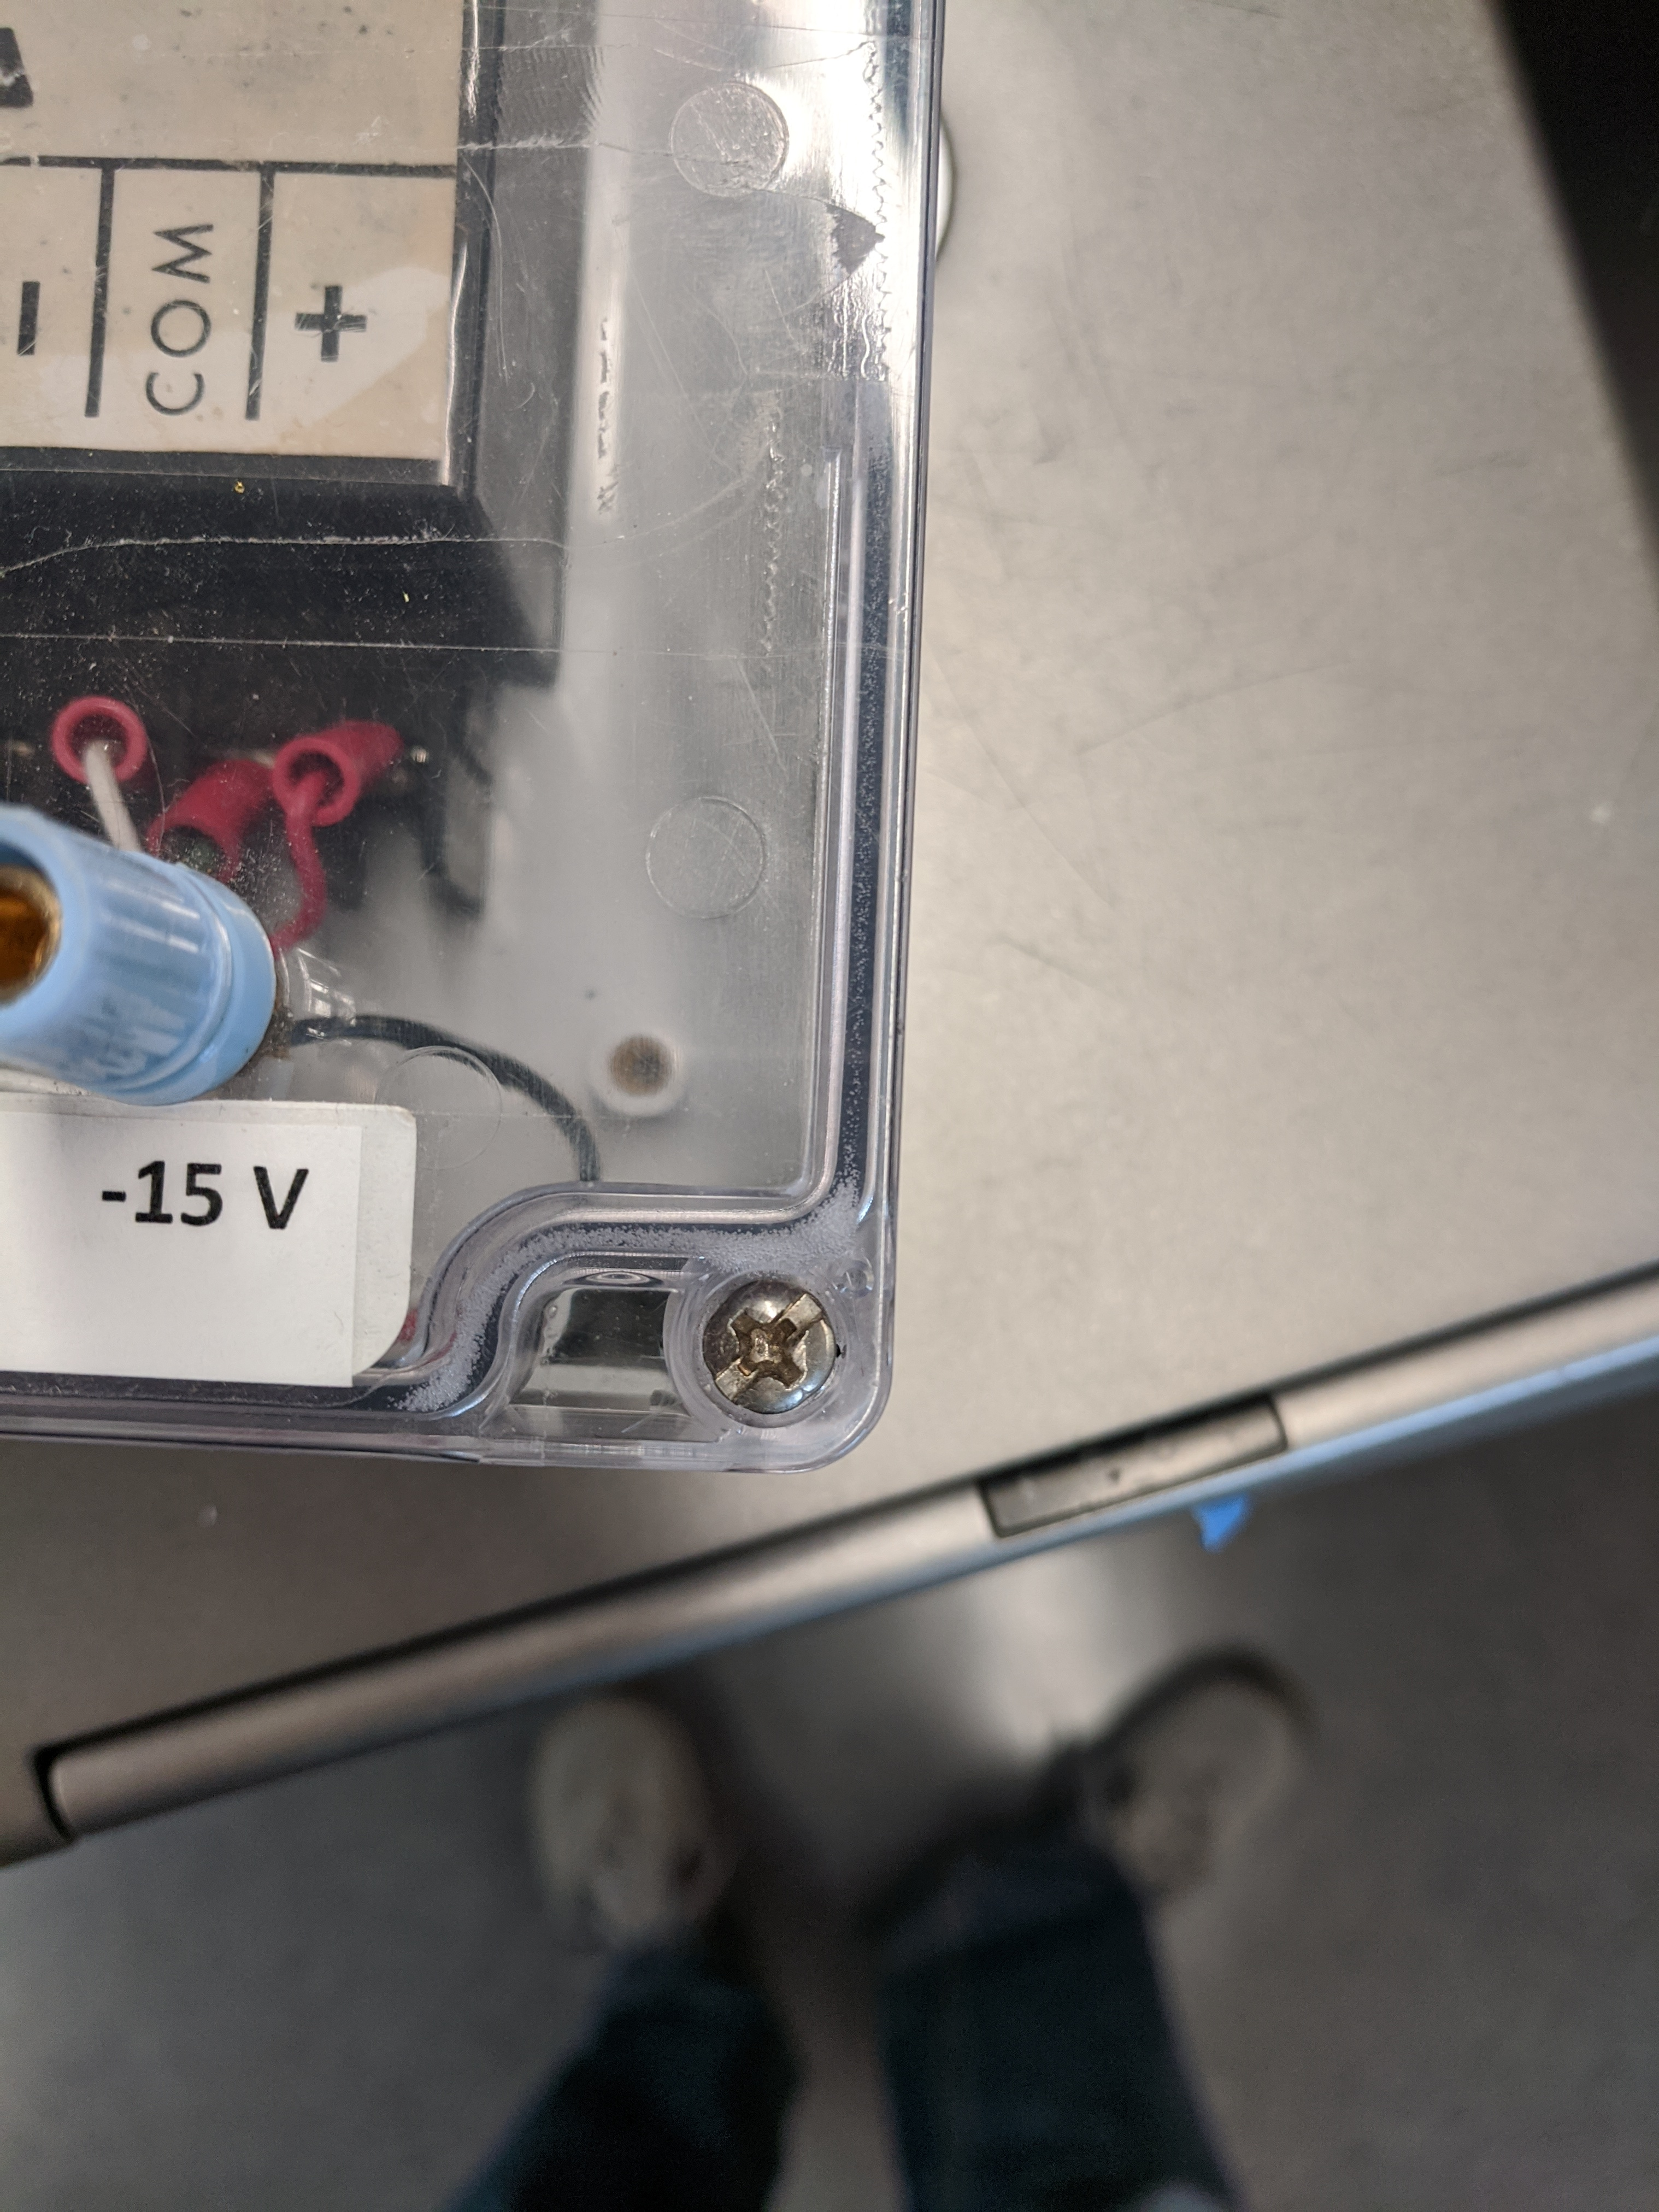cross_recessed_screw: (674, 1259, 847, 1413)
